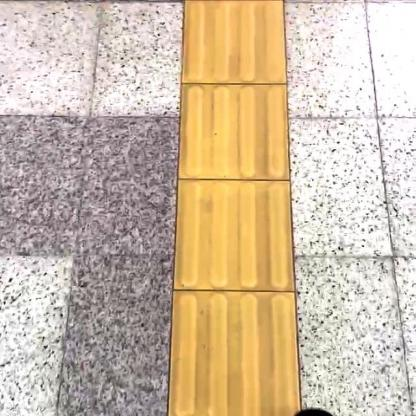podotacti: (164, 0, 302, 415)
